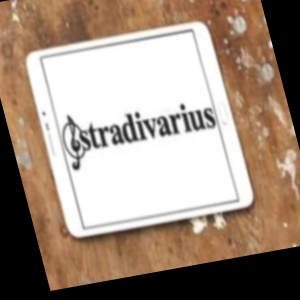stradivarius: (170, 22, 246, 143)
